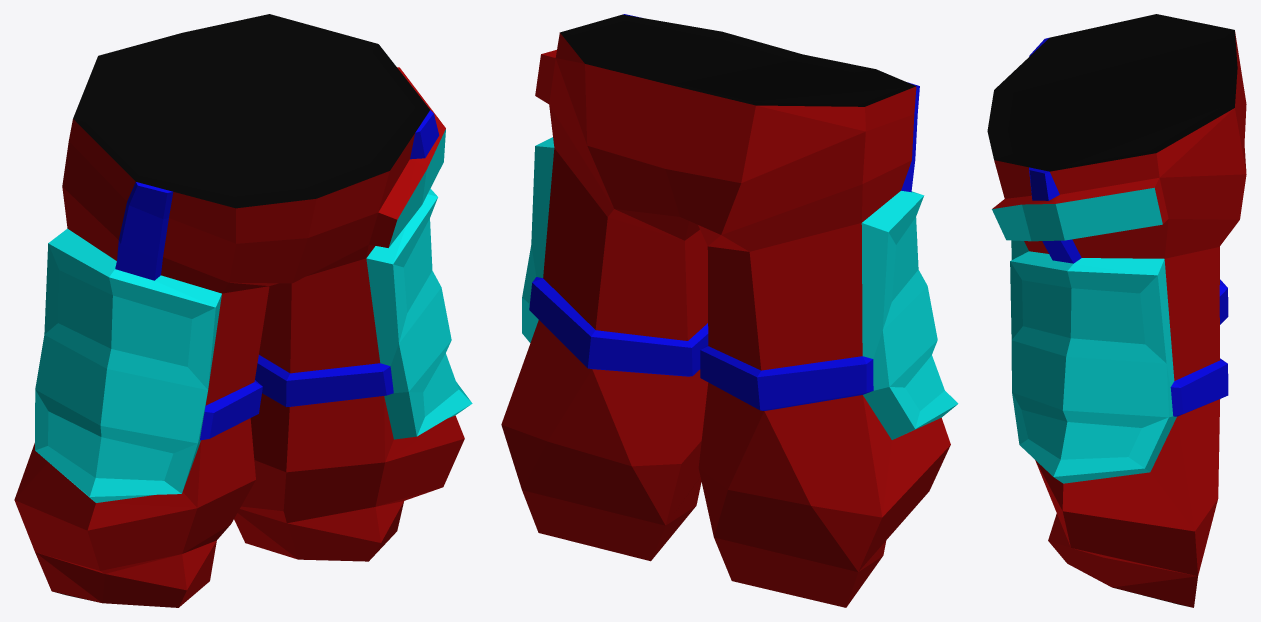
File: Chr_Hips_Male_Static_02.fbx
3 renders of one model, left to right at view 1: azimuth 30°, elevation 25°; view 2: azimuth 150°, elevation 25°; view 3: azimuth 270°, elevation 25°, orthographic. The views are drawn at different scales.
Visible parts, largest first — view 1: Chr_Hips_Male_02; view 2: Chr_Hips_Male_02; view 3: Chr_Hips_Male_02.
Part boxes in pixels (x1,y1,x2,y2): Chr_Hips_Male_02: [14, 14, 472, 607]; Chr_Hips_Male_02: [501, 14, 958, 607]; Chr_Hips_Male_02: [987, 14, 1246, 607].
Size of the model in its own units: 45.4 by 55.45 by 27.71.
